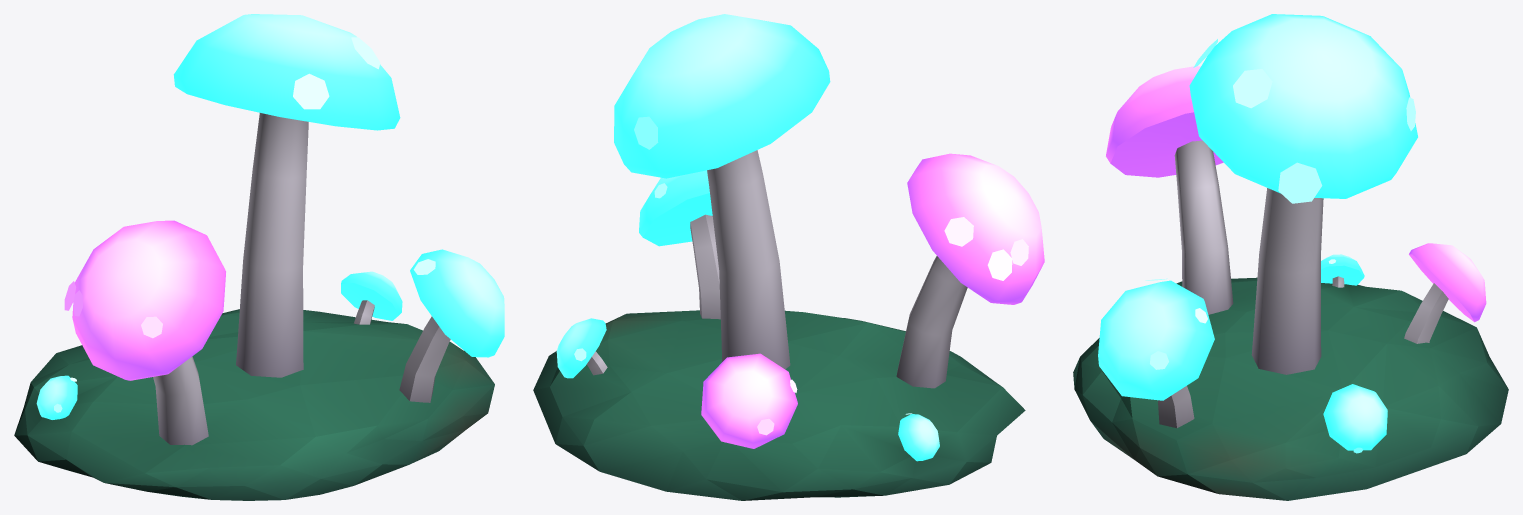
Rendered from glow_mushroom.glb.
The picture shows the model from 3 angles, left to right: view 1: azimuth 30°, elevation 25°; view 2: azimuth 150°, elevation 25°; view 3: azimuth 270°, elevation 25°; orthographic projection.
Parts seen in each view (by area): view 1: glow_mushroom; view 2: glow_mushroom; view 3: glow_mushroom.
Part boxes in pixels (x1,y1,x2,y2): glow_mushroom: (14, 14, 504, 500); glow_mushroom: (533, 14, 1044, 500); glow_mushroom: (1073, 14, 1508, 500).
Bounding box in the file's own units: 0.9724 × 0.8 × 0.826.
